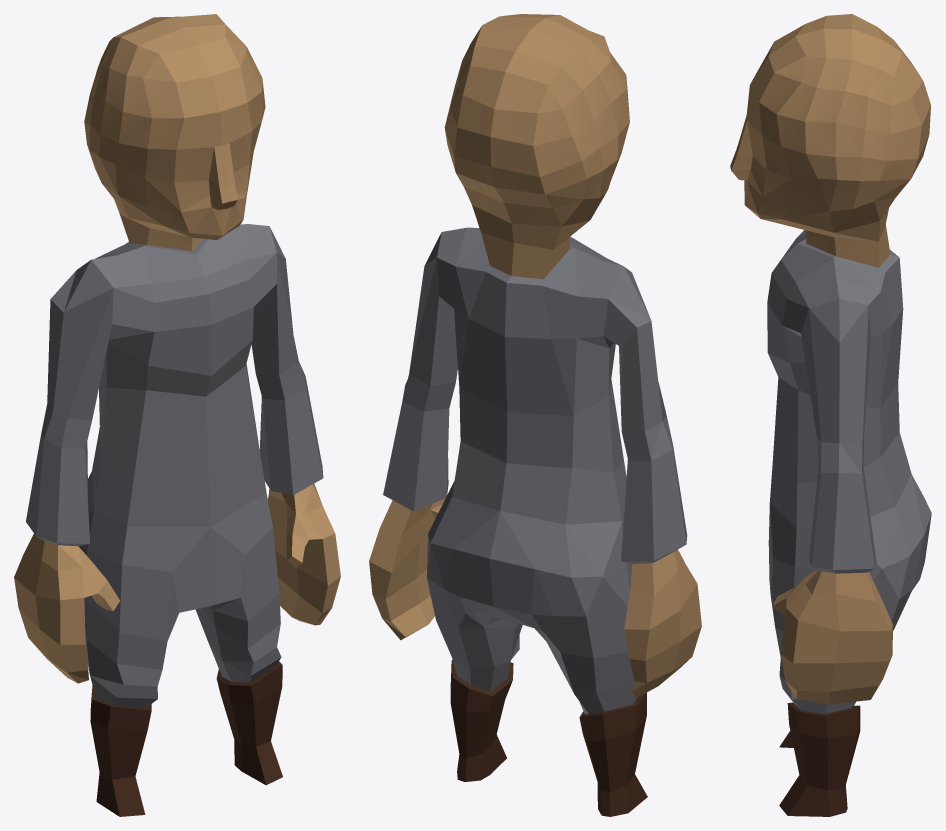
The model's file is KnightCharacter_bright.obj.
3 views of the same model, side by side, from view 1: azimuth 30°, elevation 25°; view 2: azimuth 150°, elevation 25°; view 3: azimuth 270°, elevation 25° (orthographic). The views are drawn at different scales.
Visible parts, largest first — view 1: Knight__ncl1_29.002; view 2: Knight__ncl1_29.002; view 3: Knight__ncl1_29.002.
Part boxes in pixels (left/top/right/bottom): Knight__ncl1_29.002: left=14, top=14, right=340, bottom=816; Knight__ncl1_29.002: left=369, top=14, right=701, bottom=816; Knight__ncl1_29.002: left=730, top=14, right=931, bottom=816.
Size of the model in its own units: 2.21 by 5.59 by 1.37.
